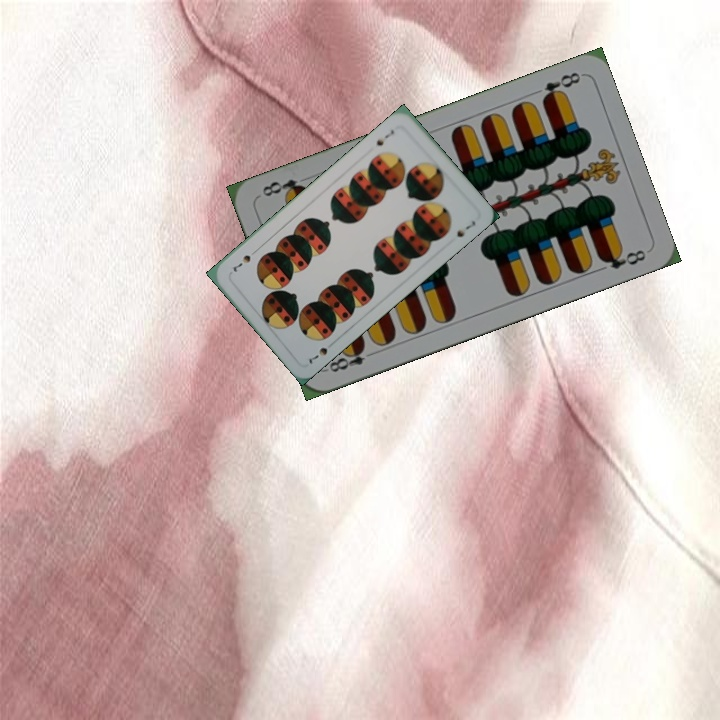E8: (321, 341, 378, 375), (538, 68, 584, 105)
S7: (304, 343, 330, 367), (372, 125, 397, 149)
